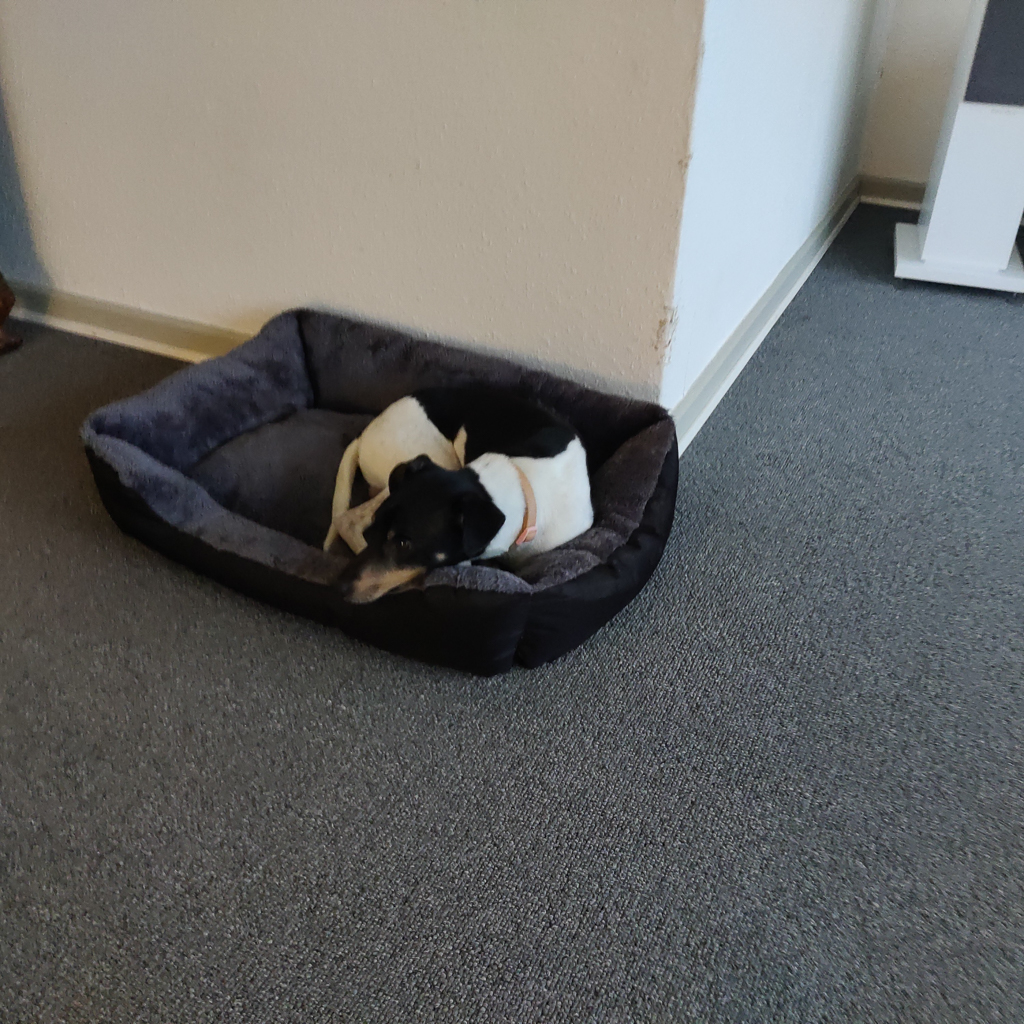Dog: (312, 345, 641, 628)
